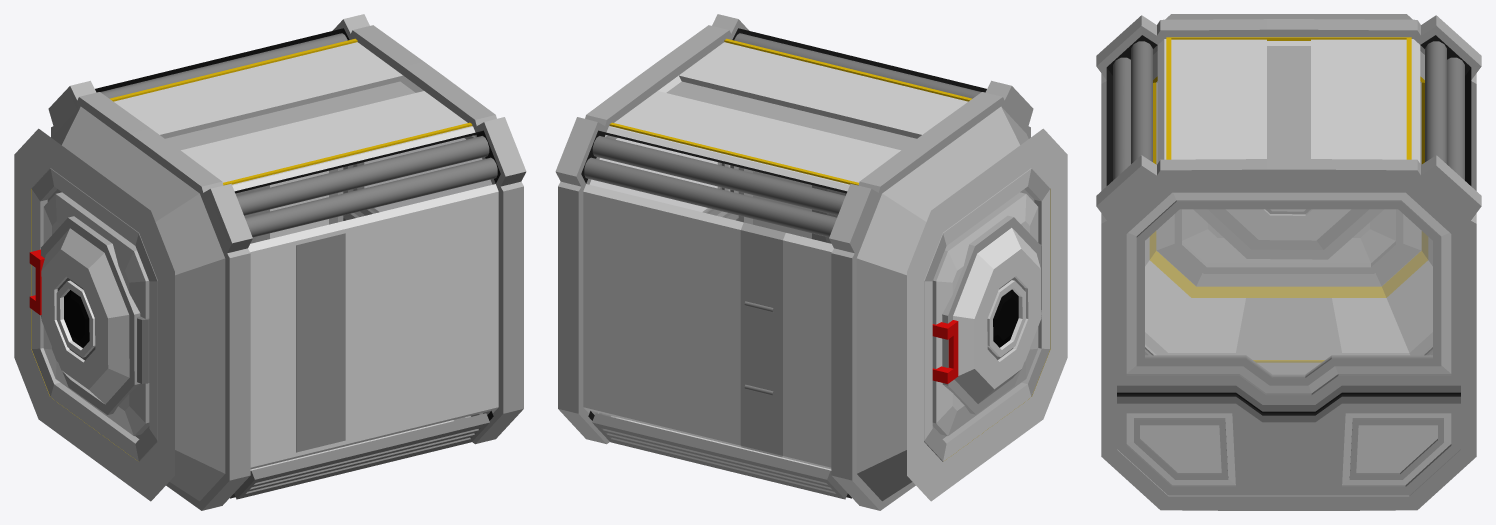
The model's file is SAS_module.fbx.
3 renders of one model, left to right at view 1: azimuth 30°, elevation 25°; view 2: azimuth 150°, elevation 25°; view 3: azimuth 270°, elevation 25°, orthographic. The views are drawn at different scales.
Parts seen in each view (by area): view 1: SAS, CapsulesDoors.002, Control_Panel, SAS_Lights, Corridor_Door_Top.001; view 2: SAS, CapsulesDoors.002, SAS_Lights, Corridor_Door_Top.001; view 3: SAS, Corridor_Door_Top.001, CapsulesDoors.002, SAS_Lights.
Boxes of the visible parts, box(x1,y1,x2,y2) form: SAS: box(14, 14, 526, 510); CapsulesDoors.002: box(29, 216, 149, 414); Control_Panel: box(296, 233, 345, 452); SAS_Lights: box(31, 38, 472, 459); Corridor_Door_Top.001: box(343, 135, 495, 416); SAS: box(555, 14, 1067, 510); CapsulesDoors.002: box(932, 215, 1041, 414); SAS_Lights: box(609, 38, 1050, 459); Corridor_Door_Top.001: box(586, 135, 738, 416); SAS: box(1096, 14, 1481, 510); Corridor_Door_Top.001: box(1117, 184, 1460, 495); CapsulesDoors.002: box(1194, 209, 1383, 259); SAS_Lights: box(1150, 37, 1427, 362).
Size of the model in its own units: 489 by 428 by 433.
